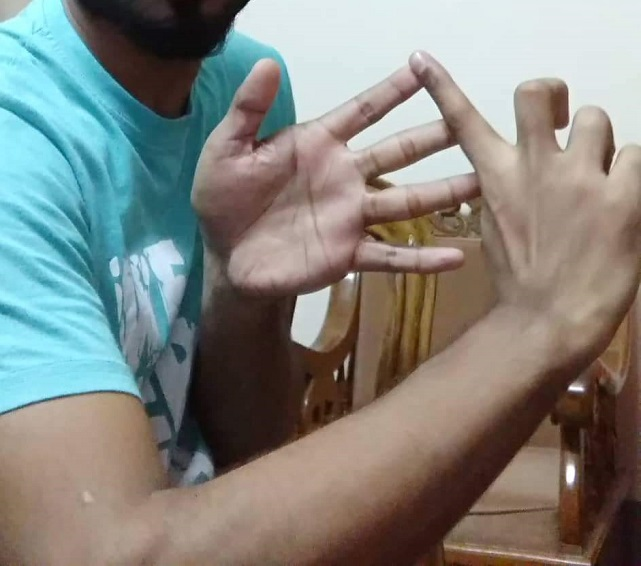o: (233, 57, 619, 288)
